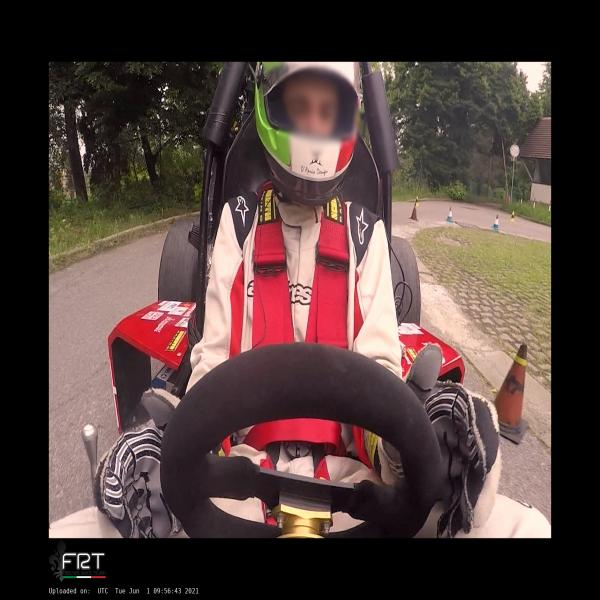blue_cone: (445, 206, 454, 222), (491, 214, 499, 231)
unknown_cone: (490, 344, 528, 444), (409, 203, 418, 221)
yellow_cone: (509, 211, 515, 221), (415, 196, 419, 206)
